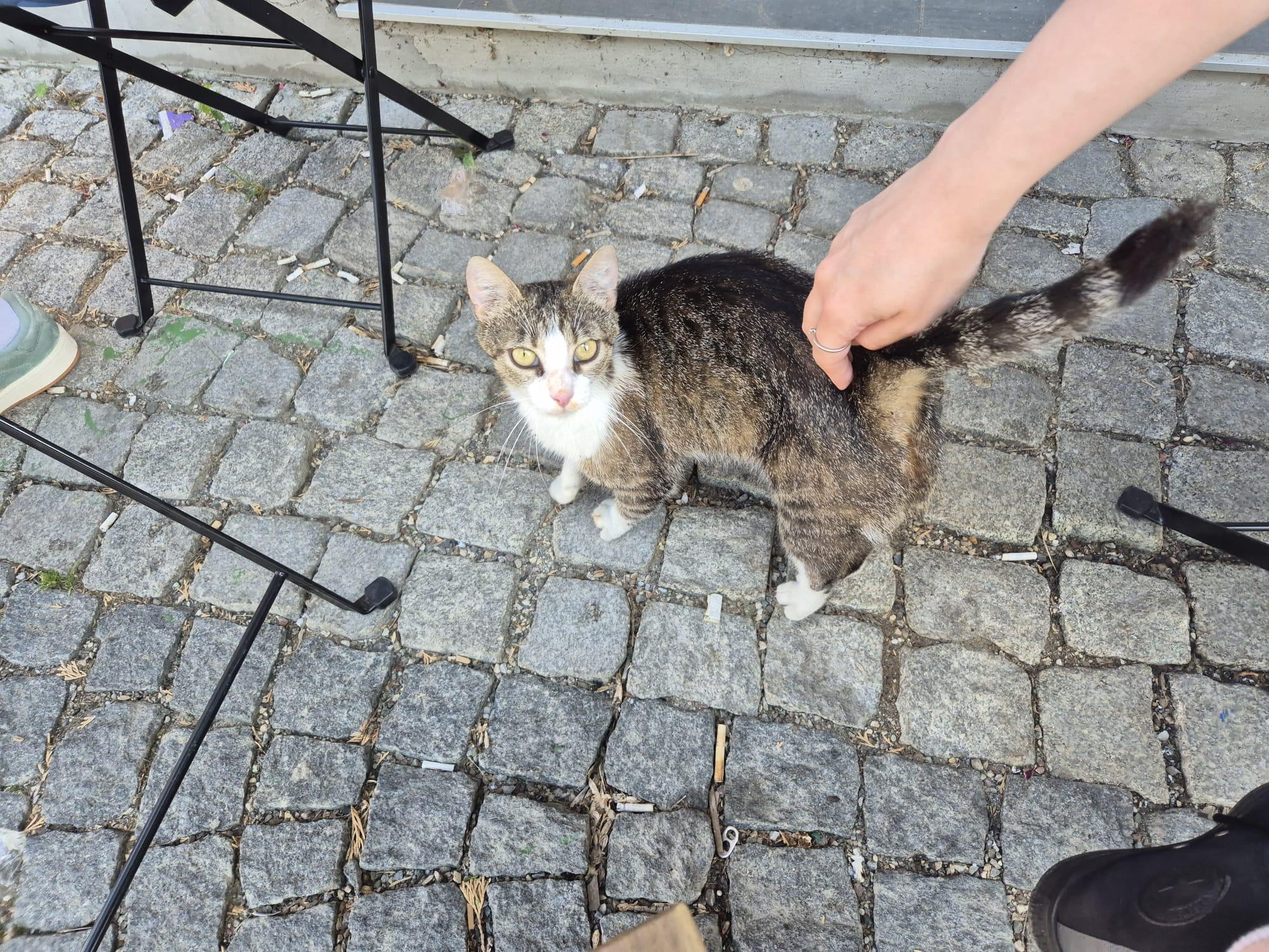macka: (464, 196, 1217, 623)
